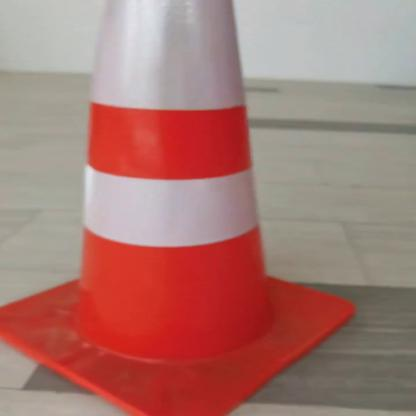cone: (0, 1, 367, 415)
